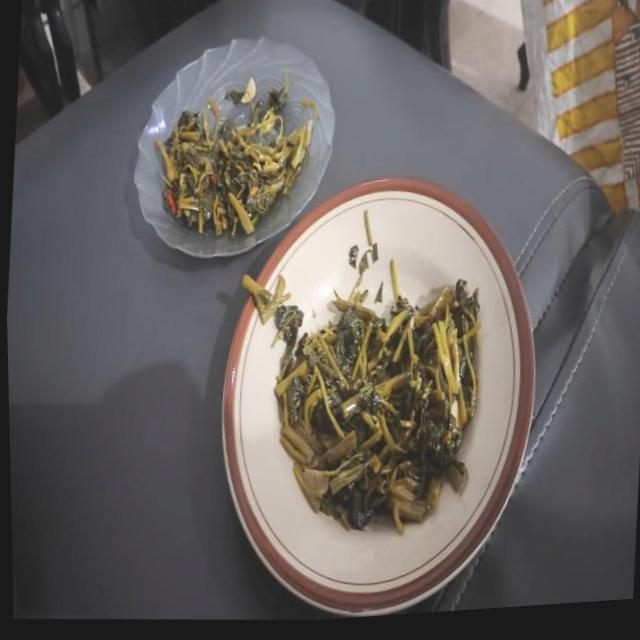tumis_kangkung: (274, 280, 481, 534), (154, 68, 312, 235)
